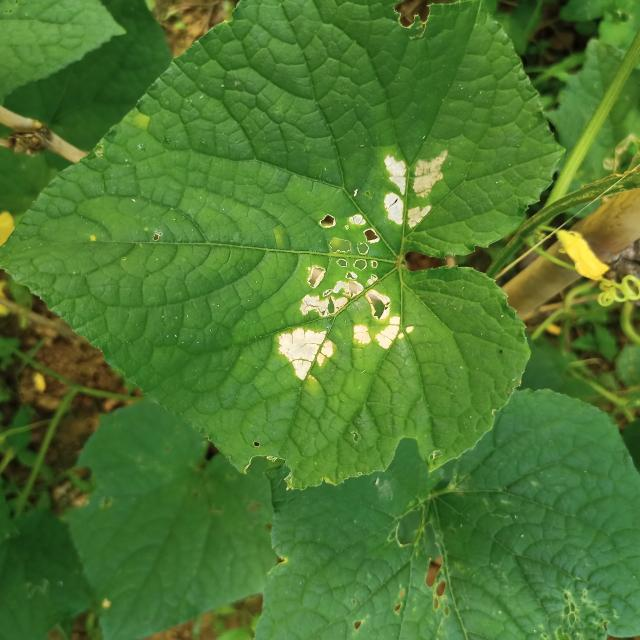disease_cucumber: (276, 207, 416, 387), (374, 147, 450, 234)
